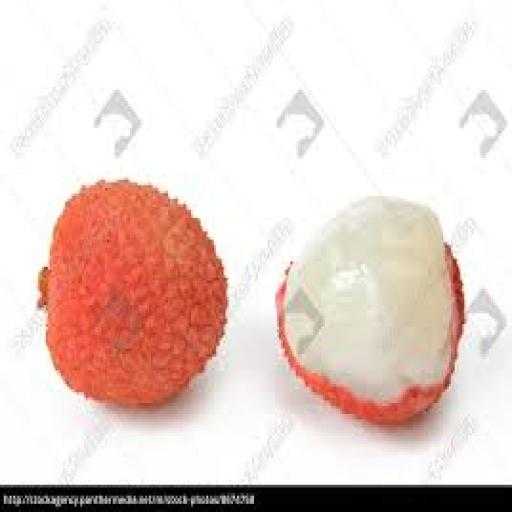lychee: (278, 197, 464, 422), (41, 180, 227, 405)
